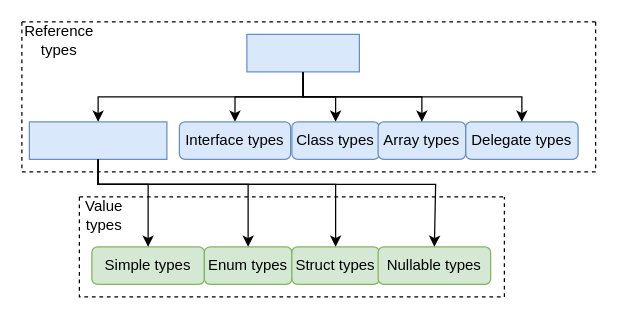
The diagram is 618 pixels wide and 319 high, and some of its shapes have lost their labels. Here are the shapes that lost their labels. From the top down, the centre of each, then its label:
At [302,52]: "System.Object".
At [97,140]: "System.ValueType".
